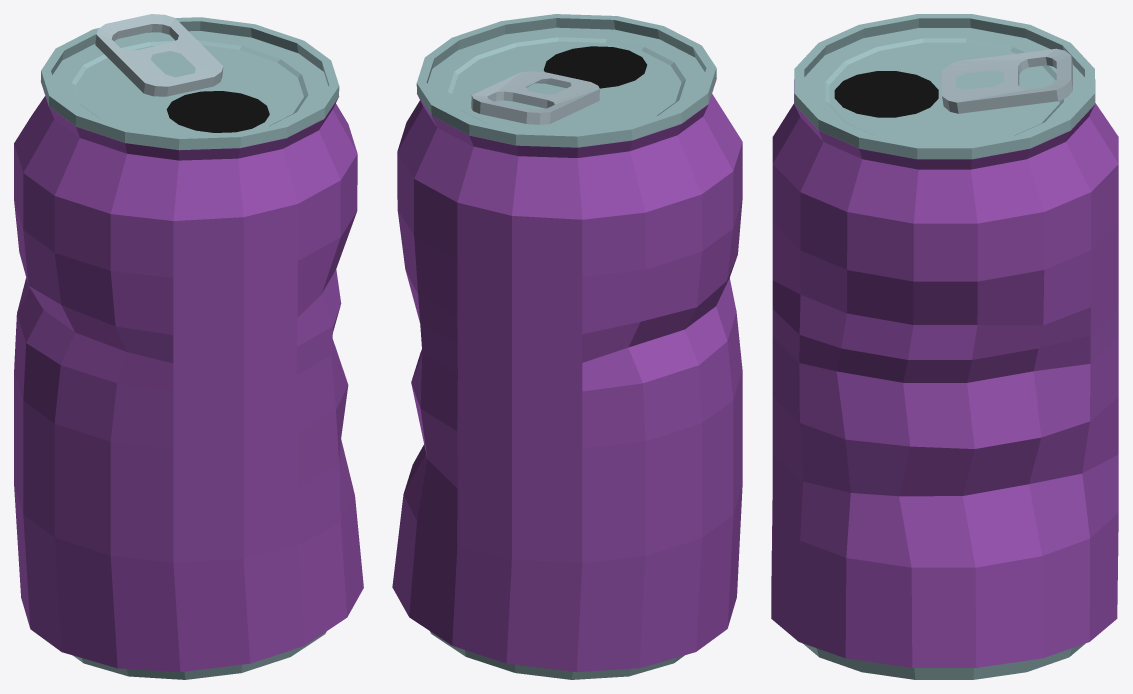
File: can_purple.fbx
3 renders of one model, left to right at view 1: azimuth 30°, elevation 25°; view 2: azimuth 150°, elevation 25°; view 3: azimuth 270°, elevation 25°, orthographic. The views are drawn at different scales.
Parts seen in each view (by area): view 1: Cube.008; view 2: Cube.008; view 3: Cube.008.
Part boxes in pixels (x1,y1,x2,y2): Cube.008: (14,14,363,679); Cube.008: (392,14,742,679); Cube.008: (771,14,1118,679).
Size of the model in its own units: 204 by 364 by 201.
